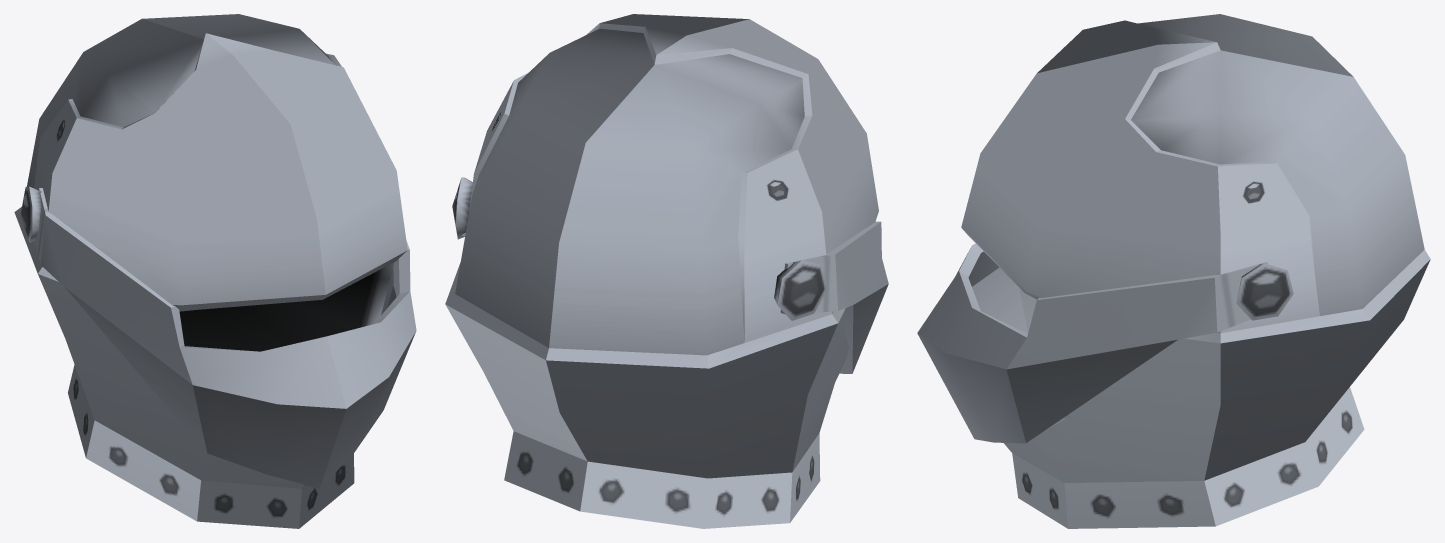
File: pk-polysplit-heroes-armethelmet-f.glb
3 views of the same model, side by side, from view 1: azimuth 30°, elevation 25°; view 2: azimuth 150°, elevation 25°; view 3: azimuth 270°, elevation 25° (orthographic). The views are drawn at different scales.
Visible parts, largest first — view 1: ArmetHelmet_F, ArmetHelmet_F_Visor; view 2: ArmetHelmet_F, ArmetHelmet_F_Visor; view 3: ArmetHelmet_F, ArmetHelmet_F_Visor.
Boxes of the visible parts, left/top/right/bottom form: ArmetHelmet_F: left=14, top=14, right=407, bottom=528; ArmetHelmet_F_Visor: left=21, top=186, right=416, bottom=488; ArmetHelmet_F: left=445, top=14, right=878, bottom=528; ArmetHelmet_F_Visor: left=452, top=177, right=888, bottom=373; ArmetHelmet_F: left=961, top=14, right=1430, bottom=528; ArmetHelmet_F_Visor: left=917, top=243, right=1293, bottom=443.
Size of the model in its own units: 0.2744 by 0.3366 by 0.3436.
1 material, 1 textured.
